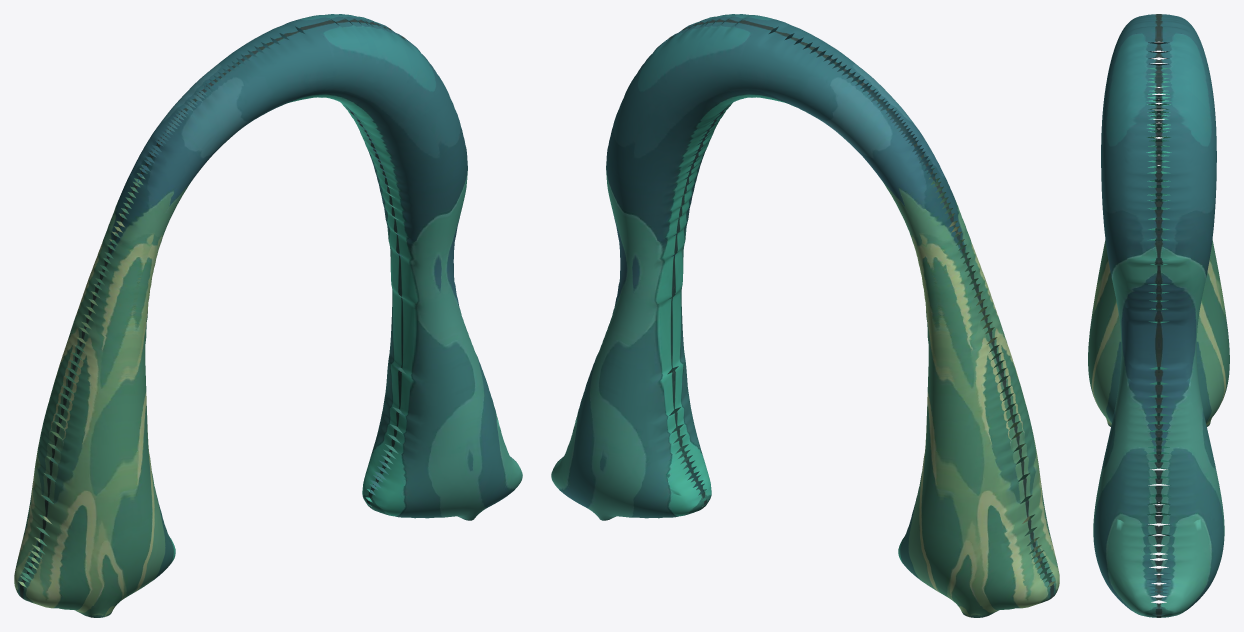
Rendered from perimeter_arch.glb.
The picture shows the model from 3 angles, left to right: view 1: azimuth 30°, elevation 25°; view 2: azimuth 150°, elevation 25°; view 3: azimuth 270°, elevation 25°; orthographic projection. The views are drawn at different scales.
Parts seen in each view (by area): view 1: perimeter_arch; view 2: perimeter_arch; view 3: perimeter_arch.
Part boxes in pixels (x1,y1,x2,y2): perimeter_arch: (14,14,522,617); perimeter_arch: (551,14,1059,617); perimeter_arch: (1088,14,1229,617).
Bounding box in the file's own units: 0.9889 × 0.9807 × 0.2504.
1 material, 1 textured.
